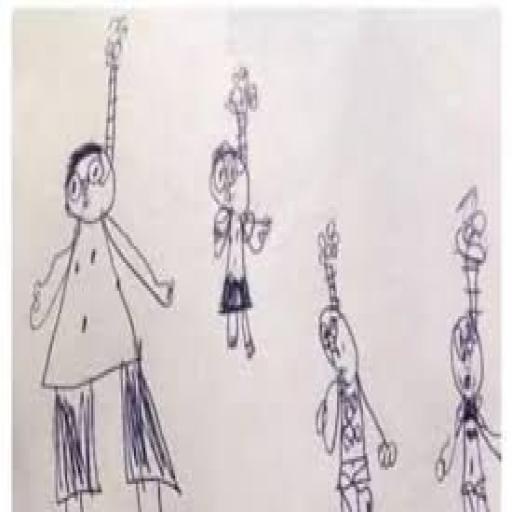person: (14, 15, 187, 512), (300, 204, 405, 512), (192, 48, 288, 378), (426, 167, 511, 512)
